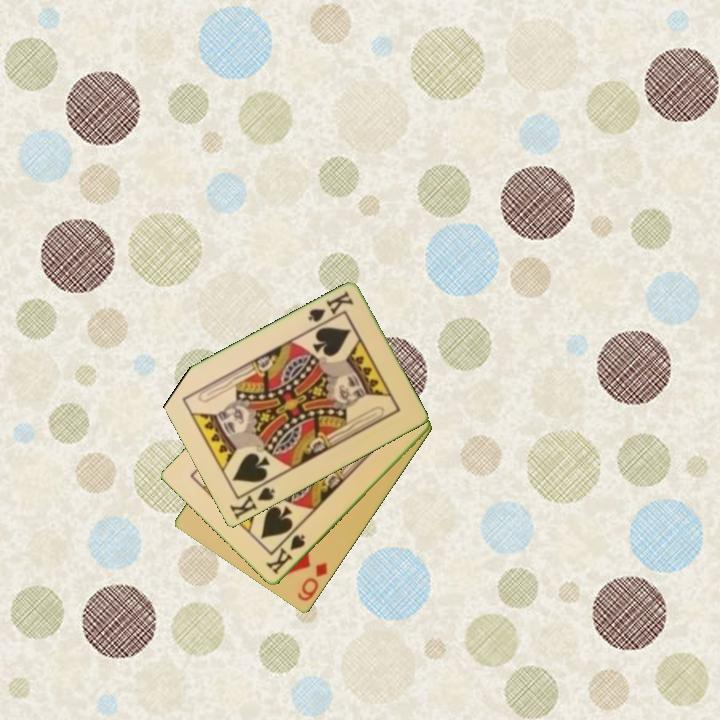6d: (294, 559, 331, 605)
Ks: (226, 478, 278, 523), (262, 531, 308, 578), (304, 288, 357, 325)
